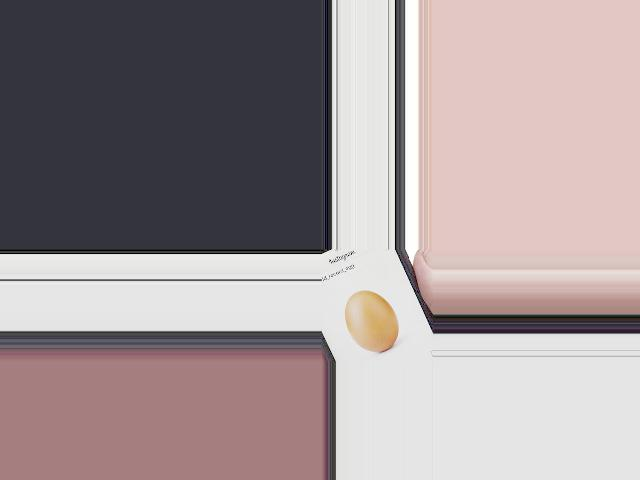egg: (345, 290, 398, 352)
